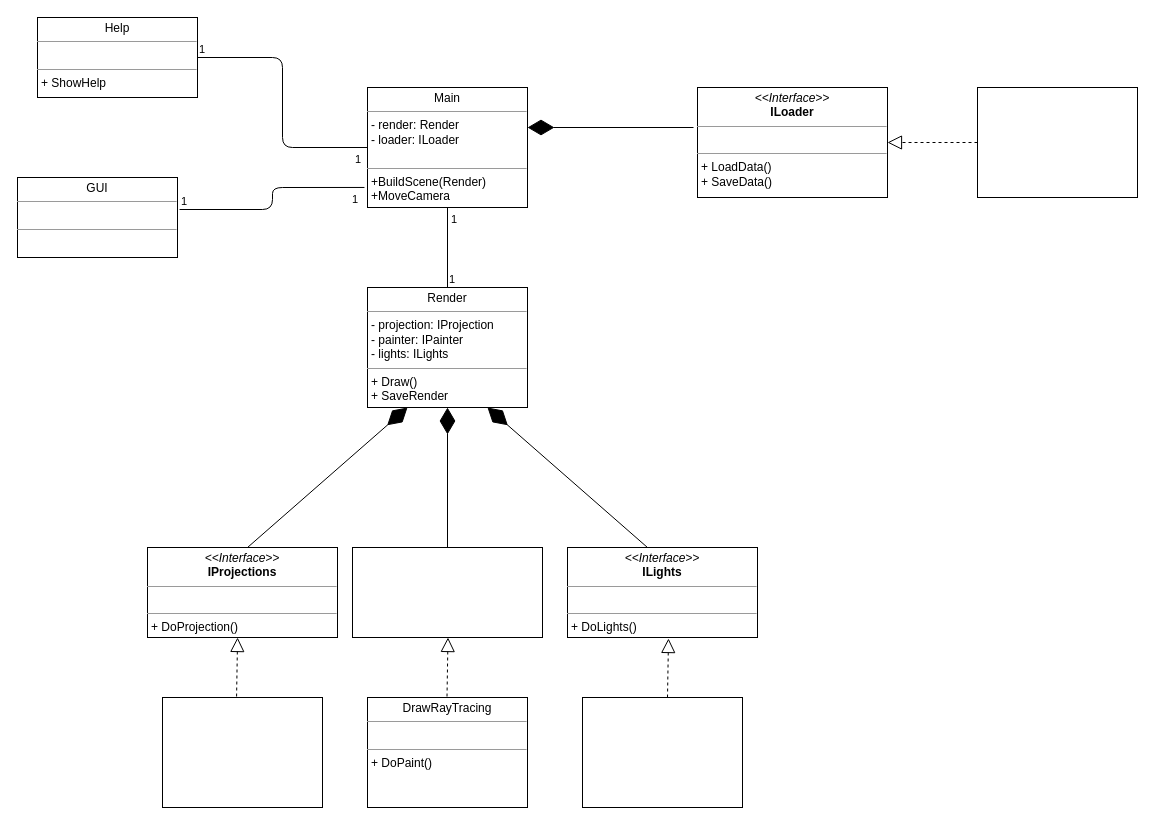
Some shapes in this 1155 by 825 pixel diagram are drawn without their labels. Each missing label, with the centre of its shape:
"<<Interface>> IPainter + DoPaint()" belongs at pixel 447 592.
"LightsGuro + DoLights()" belongs at pixel 662 752.
"Loader3Ds + LoadData + SaveData" belongs at pixel 1057 142.
"ProjectionPerspective + DoProjection()" belongs at pixel 242 752.
